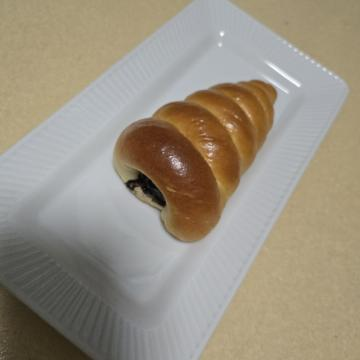cream horn: (66, 74, 272, 264)
